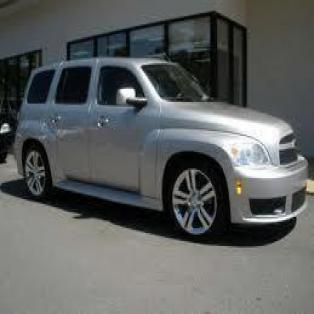Auto: (9, 45, 312, 246)
